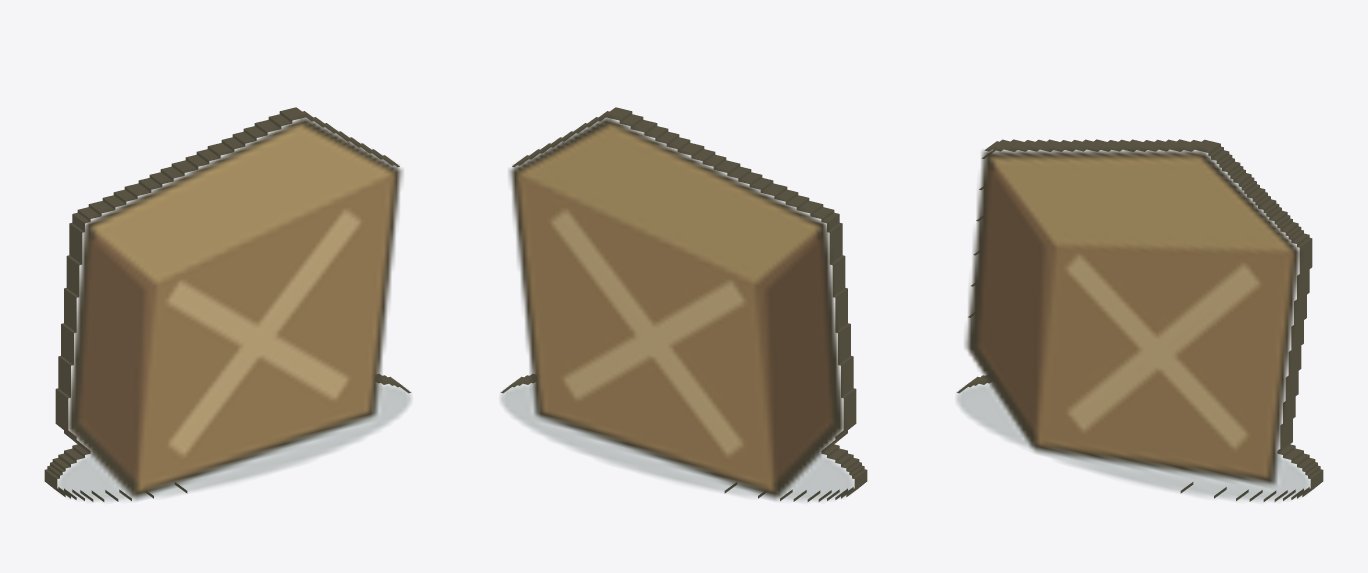
Rendered from SupplyCrate.glb.
3 renders of one model, left to right at view 1: azimuth 30°, elevation 25°; view 2: azimuth 150°, elevation 25°; view 3: azimuth 330°, elevation 25°, orthographic.
Visible parts, largest first — view 1: Visual; view 2: Visual; view 3: Visual.
Part boxes in pixels (x1=…): Visual: x1=44, y1=107, x2=411, y2=502; Visual: x1=500, y1=107, x2=867, y2=502; Visual: x1=956, y1=139, x2=1323, y2=502.
Bounding box in the file's own units: 1.5 × 1.5 × 0.08.
3 materials, 2 textured.
